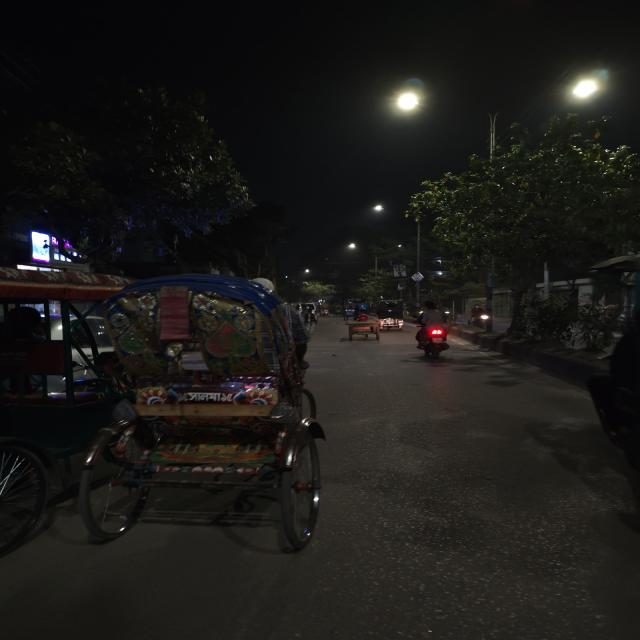motorcycle: (407, 300, 460, 362), (468, 304, 496, 332)
rickshaw: (85, 271, 342, 562), (337, 308, 384, 342)
